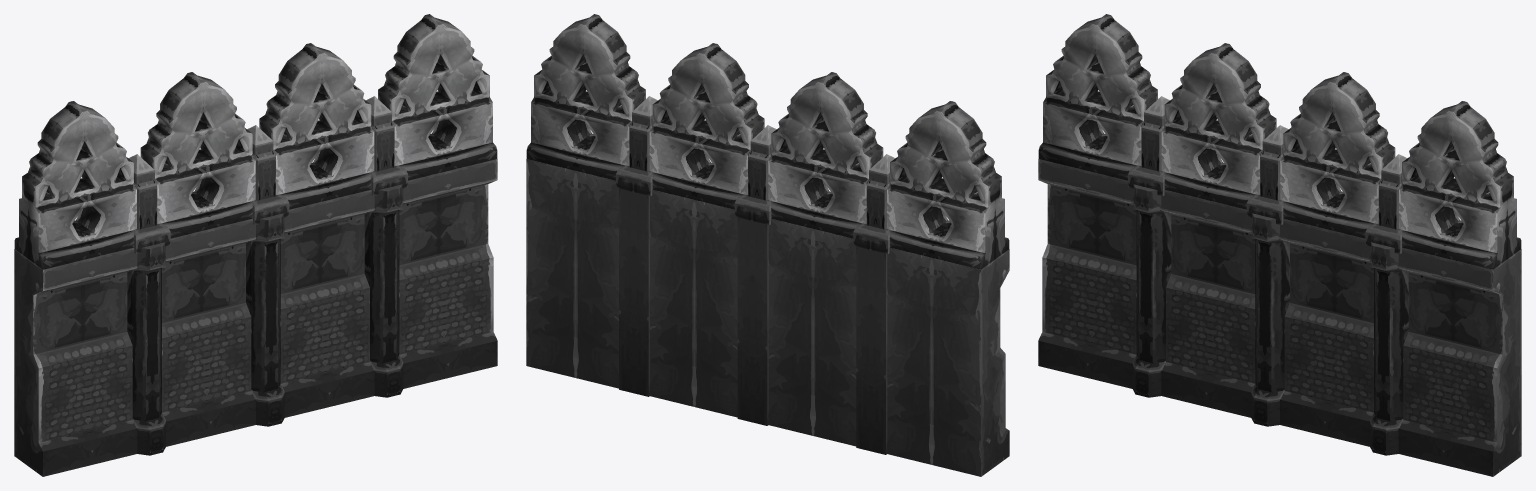
File: VV-WalakuluBemma-4.fbx
The picture shows the model from 3 angles, left to right: view 1: azimuth 30°, elevation 25°; view 2: azimuth 150°, elevation 25°; view 3: azimuth 330°, elevation 25°; orthographic projection.
Visible parts, largest first — view 1: WalakuluBemmaBuild-4; view 2: WalakuluBemmaBuild-4; view 3: WalakuluBemmaBuild-4.
Part boxes in pixels (x1=…): WalakuluBemmaBuild-4: x1=14, y1=14, x2=497, y2=476; WalakuluBemmaBuild-4: x1=526, y1=14, x2=1009, y2=476; WalakuluBemmaBuild-4: x1=1038, y1=14, x2=1521, y2=476.
Size of the model in its own units: 4.6 by 3.36 by 0.6141.
